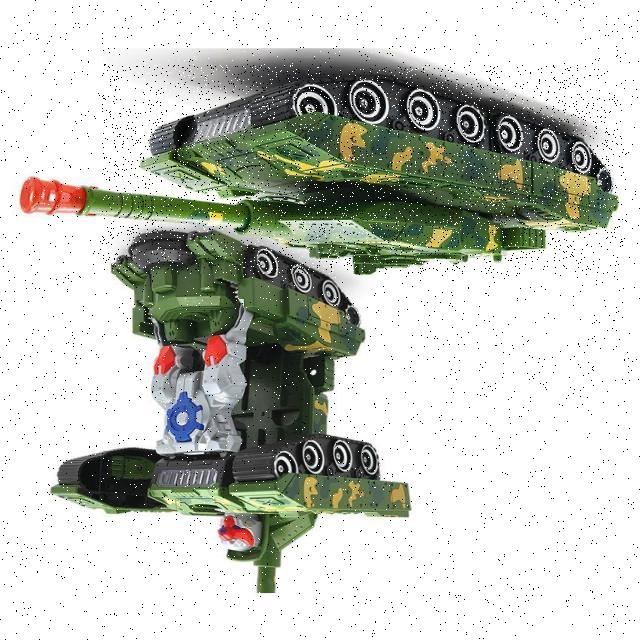MIL_MBT: (103, 65, 623, 274)
